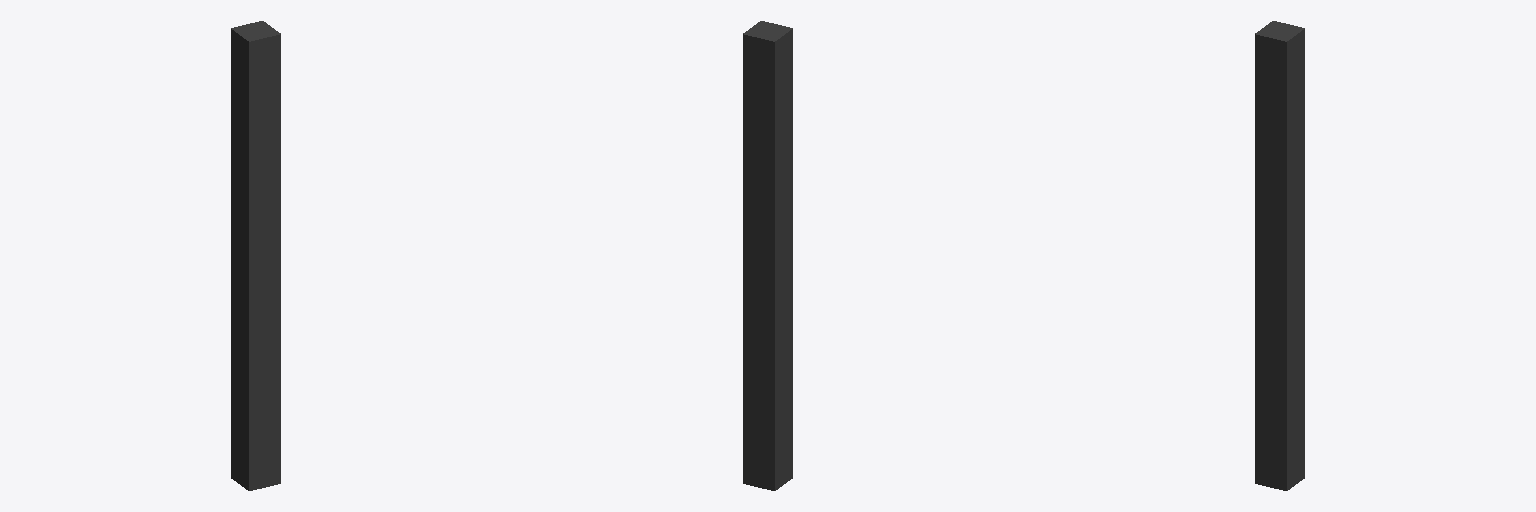
robot.urdf — box:
<?xml version='1.0' encoding='UTF-8'?>
<robot name="box">
  <link name="base_link">
    <inertial>
      <origin xyz="0.0 0.0 0.0" rpy="0.0 -0.0 0.0"/>
      <mass value="1.0"/>
      <inertia ixx="1.0" ixy="0.0" ixz="0.0" iyy="1.0" iyz="0.0" izz="1.0"/>
    </inertial>
    <visual name="base_link_visual">
      <geometry>
        <box size="0.15 0.15 2.0"/>
      </geometry>
      <material name="base_link_color">
        <color rgba="0.3 0.3 0.3 1"/>
      </material>
      <origin xyz="0 0 0" rpy="0 0 0"/>
    </visual>
    <collision name="base_link_collision">
      <geometry>
        <box size="0.15 0.15 2.0"/>
      </geometry>
      <origin xyz="0 0 0" rpy="0 0 0"/>
    </collision>
  </link>
</robot>

--- What the picture shows (computed from the rendered views, not written in the file) ---
The picture shows the robot from 3 angles, left to right: view 1: azimuth 30°, elevation 25°; view 2: azimuth 150°, elevation 25°; view 3: azimuth 330°, elevation 25°; orthographic projection.
Model box with 1 links and 0 joints (none), rooted at base_link, posed every joint at zero.
Visible links, largest first — view 1: base_link; view 2: base_link; view 3: base_link.
Link boxes in pixels (left/top/right/bottom): base_link: left=231, top=21, right=280, bottom=490; base_link: left=743, top=21, right=792, bottom=490; base_link: left=1255, top=21, right=1304, bottom=490.
Bounding box of the posed robot: 0.15 × 0.15 × 2 m (x, y, z).
Geometry: primitives only (box / cylinder / sphere), no mesh files.